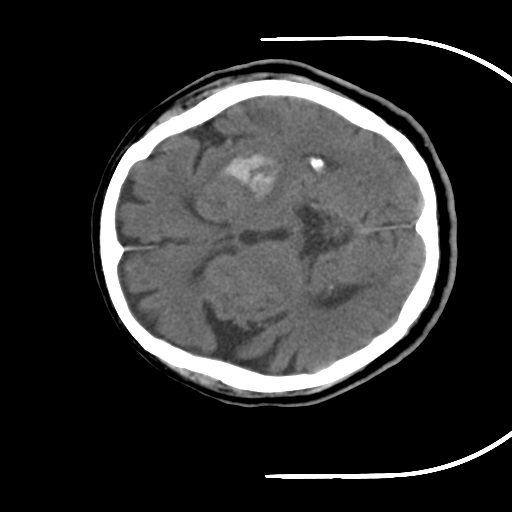a: (209, 141, 291, 210)
